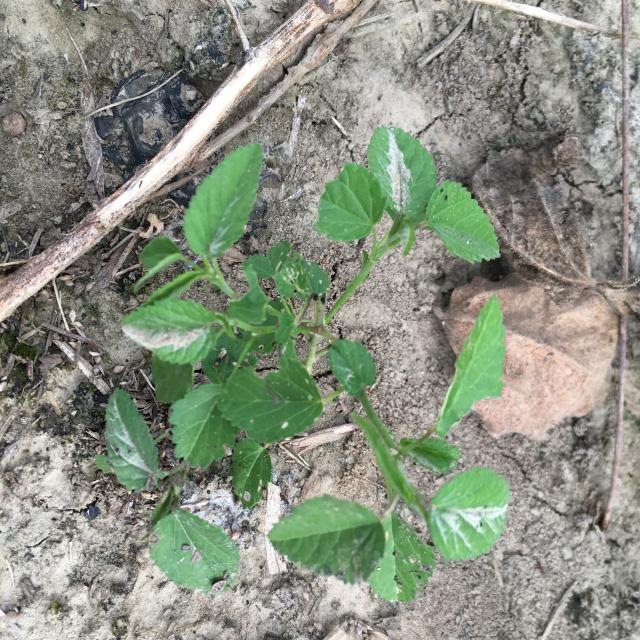PricklySida: (95, 124, 511, 605)
